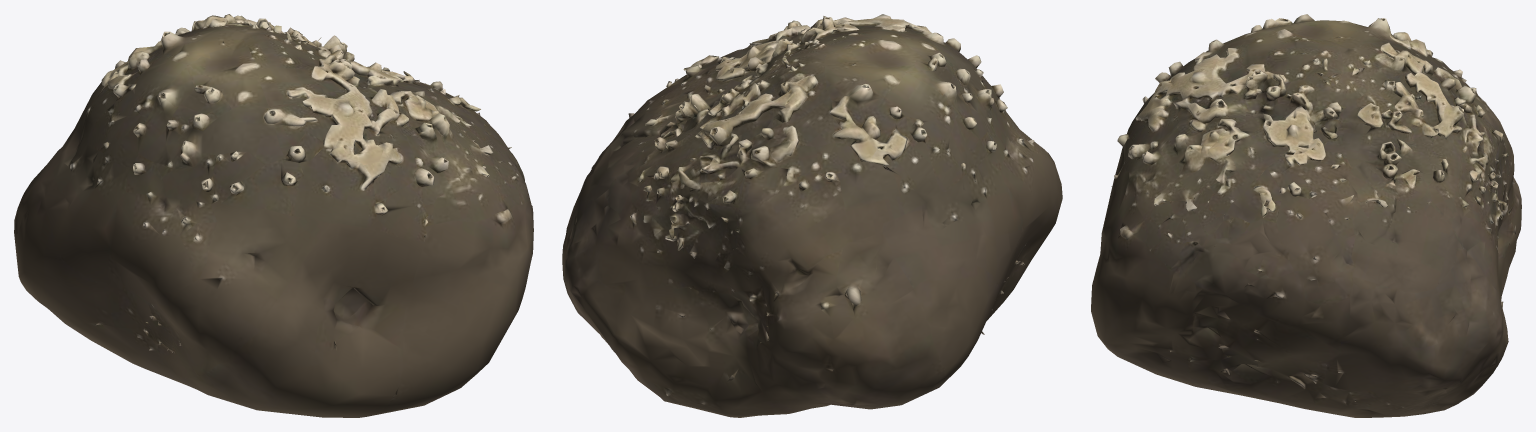
The model's file is fels.glb.
3 views of the same model, side by side, from view 1: azimuth 30°, elevation 25°; view 2: azimuth 150°, elevation 25°; view 3: azimuth 270°, elevation 25° (orthographic). The views are drawn at different scales.
Bounding box in the file's own units: 0.9998 × 0.7912 × 0.9631.
1 material, 1 textured.
